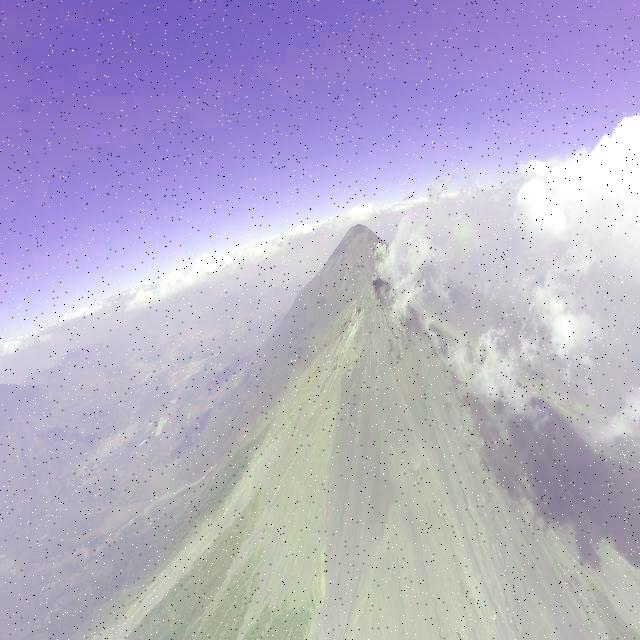Plume: (372, 238, 392, 280)
Summit: (328, 278, 408, 359)
